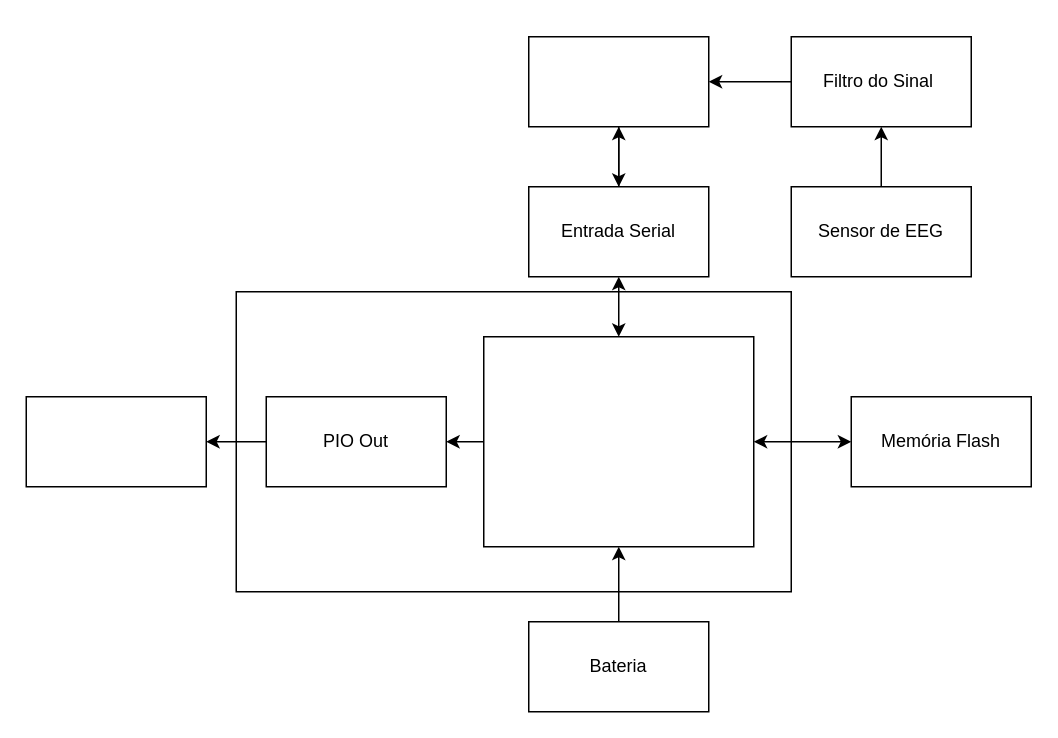
Image size: 1058x738. Some labels were removed from this diagram. The box of each missing label's shape, as (x1, y1, x2, y2) in pixels:
Bluetooth: (527, 35, 709, 127)
Micro Processador: (482, 335, 754, 547)
Motor DC: (25, 395, 206, 487)
